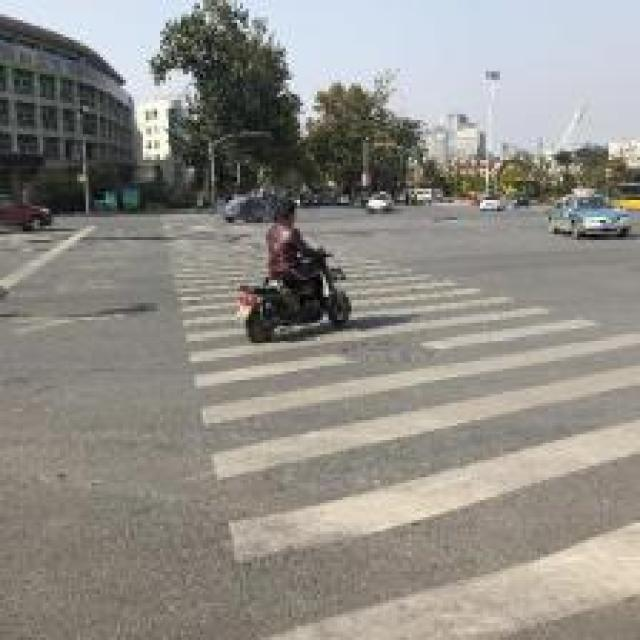walk-crossing: (134, 220, 640, 623)
